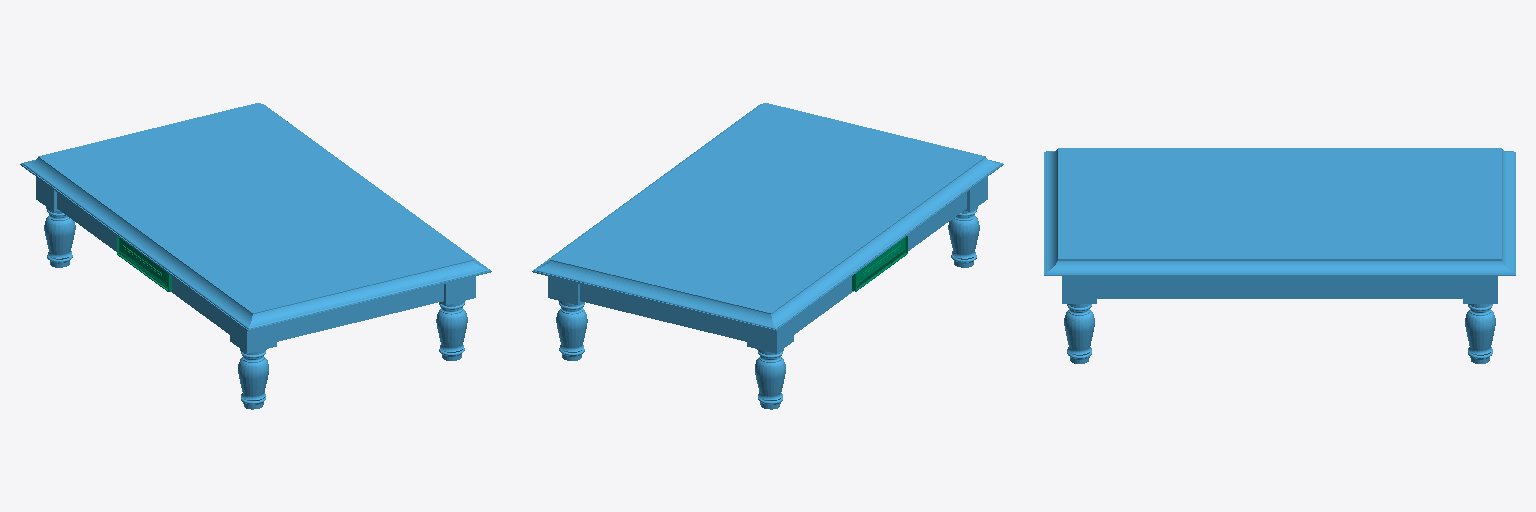
The robot description file, URDF, robot "partnet_2dc57230d14506eacd6ce29440b718cf":
<?xml version="1.0" ?>
<robot name="partnet_2dc57230d14506eacd6ce29440b718cf">
	<link name="base"/>
	<link name="link_0">
		<visual name="board-35">
			<origin xyz="0 0 0"/>
			<geometry>
				<mesh filename="package://objects_description/20985/textured_objs/original-28.obj"/>
			</geometry>
		</visual>
		<visual name="leg-11">
			<origin xyz="0 0 0"/>
			<geometry>
				<mesh filename="package://objects_description/20985/textured_objs/original-7.obj"/>
			</geometry>
		</visual>
		<visual name="leg-11">
			<origin xyz="0 0 0"/>
			<geometry>
				<mesh filename="package://objects_description/20985/textured_objs/original-6.obj"/>
			</geometry>
		</visual>
		<visual name="leg-12">
			<origin xyz="0 0 0"/>
			<geometry>
				<mesh filename="package://objects_description/20985/textured_objs/original-16.obj"/>
			</geometry>
		</visual>
		<visual name="leg-12">
			<origin xyz="0 0 0"/>
			<geometry>
				<mesh filename="package://objects_description/20985/textured_objs/original-15.obj"/>
			</geometry>
		</visual>
		<visual name="leg-13">
			<origin xyz="0 0 0"/>
			<geometry>
				<mesh filename="package://objects_description/20985/textured_objs/original-13.obj"/>
			</geometry>
		</visual>
		<visual name="leg-13">
			<origin xyz="0 0 0"/>
			<geometry>
				<mesh filename="package://objects_description/20985/textured_objs/original-12.obj"/>
			</geometry>
		</visual>
		<visual name="leg-14">
			<origin xyz="0 0 0"/>
			<geometry>
				<mesh filename="package://objects_description/20985/textured_objs/original-9.obj"/>
			</geometry>
		</visual>
		<visual name="leg-14">
			<origin xyz="0 0 0"/>
			<geometry>
				<mesh filename="package://objects_description/20985/textured_objs/original-10.obj"/>
			</geometry>
		</visual>
		<visual name="bar_stretcher-15">
			<origin xyz="0 0 0"/>
			<geometry>
				<mesh filename="package://objects_description/20985/textured_objs/original-21.obj"/>
			</geometry>
		</visual>
		<visual name="bar_stretcher-16">
			<origin xyz="0 0 0"/>
			<geometry>
				<mesh filename="package://objects_description/20985/textured_objs/original-22.obj"/>
			</geometry>
		</visual>
		<visual name="bar_stretcher-17">
			<origin xyz="0 0 0"/>
			<geometry>
				<mesh filename="package://objects_description/20985/textured_objs/original-19.obj"/>
			</geometry>
		</visual>
		<visual name="bar_stretcher-18">
			<origin xyz="0 0 0"/>
			<geometry>
				<mesh filename="package://objects_description/20985/textured_objs/original-20.obj"/>
			</geometry>
		</visual>
		<visual name="tabletop_connector-19">
			<origin xyz="0 0 0"/>
			<geometry>
				<mesh filename="package://objects_description/20985/textured_objs/new-0.obj"/>
			</geometry>
		</visual>
		<visual name="tabletop_connector-20">
			<origin xyz="0 0 0"/>
			<geometry>
				<mesh filename="package://objects_description/20985/textured_objs/new-1.obj"/>
			</geometry>
		</visual>
		<visual name="tabletop_connector-21">
			<origin xyz="0 0 0"/>
			<geometry>
				<mesh filename="package://objects_description/20985/textured_objs/new-2.obj"/>
			</geometry>
		</visual>
		<visual name="tabletop_connector-22">
			<origin xyz="0 0 0"/>
			<geometry>
				<mesh filename="package://objects_description/20985/textured_objs/new-3.obj"/>
			</geometry>
		</visual>
		<visual name="drawer_rails-28">
			<origin xyz="0 0 0"/>
			<geometry>
				<mesh filename="package://objects_description/20985/textured_objs/original-3.obj"/>
			</geometry>
		</visual>
		<visual name="drawer_rails-28">
			<origin xyz="0 0 0"/>
			<geometry>
				<mesh filename="package://objects_description/20985/textured_objs/original-2.obj"/>
			</geometry>
		</visual>
		<collision>
			<origin xyz="0 0 0"/>
			<geometry>
				<mesh filename="package://objects_description/20985/textured_objs/original-28.obj"/>
			</geometry>
		</collision>
		<collision>
			<origin xyz="0 0 0"/>
			<geometry>
				<mesh filename="package://objects_description/20985/textured_objs/original-7.obj"/>
			</geometry>
		</collision>
		<collision>
			<origin xyz="0 0 0"/>
			<geometry>
				<mesh filename="package://objects_description/20985/textured_objs/original-6.obj"/>
			</geometry>
		</collision>
		<collision>
			<origin xyz="0 0 0"/>
			<geometry>
				<mesh filename="package://objects_description/20985/textured_objs/original-16.obj"/>
			</geometry>
		</collision>
		<collision>
			<origin xyz="0 0 0"/>
			<geometry>
				<mesh filename="package://objects_description/20985/textured_objs/original-15.obj"/>
			</geometry>
		</collision>
		<collision>
			<origin xyz="0 0 0"/>
			<geometry>
				<mesh filename="package://objects_description/20985/textured_objs/original-13.obj"/>
			</geometry>
		</collision>
		<collision>
			<origin xyz="0 0 0"/>
			<geometry>
				<mesh filename="package://objects_description/20985/textured_objs/original-12.obj"/>
			</geometry>
		</collision>
		<collision>
			<origin xyz="0 0 0"/>
			<geometry>
				<mesh filename="package://objects_description/20985/textured_objs/original-9.obj"/>
			</geometry>
		</collision>
		<collision>
			<origin xyz="0 0 0"/>
			<geometry>
				<mesh filename="package://objects_description/20985/textured_objs/original-10.obj"/>
			</geometry>
		</collision>
		<collision>
			<origin xyz="0 0 0"/>
			<geometry>
				<mesh filename="package://objects_description/20985/textured_objs/original-21.obj"/>
			</geometry>
		</collision>
		<collision>
			<origin xyz="0 0 0"/>
			<geometry>
				<mesh filename="package://objects_description/20985/textured_objs/original-22.obj"/>
			</geometry>
		</collision>
		<collision>
			<origin xyz="0 0 0"/>
			<geometry>
				<mesh filename="package://objects_description/20985/textured_objs/original-19.obj"/>
			</geometry>
		</collision>
		<collision>
			<origin xyz="0 0 0"/>
			<geometry>
				<mesh filename="package://objects_description/20985/textured_objs/original-20.obj"/>
			</geometry>
		</collision>
		<collision>
			<origin xyz="0 0 0"/>
			<geometry>
				<mesh filename="package://objects_description/20985/textured_objs/new-0.obj"/>
			</geometry>
		</collision>
		<collision>
			<origin xyz="0 0 0"/>
			<geometry>
				<mesh filename="package://objects_description/20985/textured_objs/new-1.obj"/>
			</geometry>
		</collision>
		<collision>
			<origin xyz="0 0 0"/>
			<geometry>
				<mesh filename="package://objects_description/20985/textured_objs/new-2.obj"/>
			</geometry>
		</collision>
		<collision>
			<origin xyz="0 0 0"/>
			<geometry>
				<mesh filename="package://objects_description/20985/textured_objs/new-3.obj"/>
			</geometry>
		</collision>
		<collision>
			<origin xyz="0 0 0"/>
			<geometry>
				<mesh filename="package://objects_description/20985/textured_objs/original-3.obj"/>
			</geometry>
		</collision>
		<collision>
			<origin xyz="0 0 0"/>
			<geometry>
				<mesh filename="package://objects_description/20985/textured_objs/original-2.obj"/>
			</geometry>
		</collision>
	</link>
	<joint name="joint_0" type="fixed">
		<origin rpy="1.570796326794897 0 -1.570796326794897" xyz="0 0 0"/>
		<child link="link_0"/>
		<parent link="base"/>
	</joint>
	<link name="link_1">
		<visual name="handle-27">
			<origin xyz="0 0 0"/>
			<geometry>
				<mesh filename="package://objects_description/20985/textured_objs/new-4.obj"/>
			</geometry>
		</visual>
		<visual name="drawer_front-29">
			<origin xyz="0 0 0"/>
			<geometry>
				<mesh filename="package://objects_description/20985/textured_objs/new-5.obj"/>
			</geometry>
		</visual>
		<visual name="drawer_side-30">
			<origin xyz="0 0 0"/>
			<geometry>
				<mesh filename="package://objects_description/20985/textured_objs/new-9.obj"/>
			</geometry>
		</visual>
		<visual name="drawer_side-31">
			<origin xyz="0 0 0"/>
			<geometry>
				<mesh filename="package://objects_description/20985/textured_objs/new-7.obj"/>
			</geometry>
		</visual>
		<visual name="drawer_back-32">
			<origin xyz="0 0 0"/>
			<geometry>
				<mesh filename="package://objects_description/20985/textured_objs/new-8.obj"/>
			</geometry>
		</visual>
		<visual name="drawer_bottom-33">
			<origin xyz="0 0 0"/>
			<geometry>
				<mesh filename="package://objects_description/20985/textured_objs/new-6.obj"/>
			</geometry>
		</visual>
		<visual name="drawer_side-36">
			<origin xyz="0 0 0"/>
			<geometry>
				<mesh filename="package://objects_description/20985/textured_objs/new-11.obj"/>
			</geometry>
		</visual>
		<visual name="drawer_side-36">
			<origin xyz="0 0 0"/>
			<geometry>
				<mesh filename="package://objects_description/20985/textured_objs/new-10.obj"/>
			</geometry>
		</visual>
		<collision>
			<origin xyz="0 0 0"/>
			<geometry>
				<mesh filename="package://objects_description/20985/textured_objs/new-4.obj"/>
			</geometry>
		</collision>
		<collision>
			<origin xyz="0 0 0"/>
			<geometry>
				<mesh filename="package://objects_description/20985/textured_objs/new-5.obj"/>
			</geometry>
		</collision>
		<collision>
			<origin xyz="0 0 0"/>
			<geometry>
				<mesh filename="package://objects_description/20985/textured_objs/new-9.obj"/>
			</geometry>
		</collision>
		<collision>
			<origin xyz="0 0 0"/>
			<geometry>
				<mesh filename="package://objects_description/20985/textured_objs/new-7.obj"/>
			</geometry>
		</collision>
		<collision>
			<origin xyz="0 0 0"/>
			<geometry>
				<mesh filename="package://objects_description/20985/textured_objs/new-8.obj"/>
			</geometry>
		</collision>
		<collision>
			<origin xyz="0 0 0"/>
			<geometry>
				<mesh filename="package://objects_description/20985/textured_objs/new-6.obj"/>
			</geometry>
		</collision>
		<collision>
			<origin xyz="0 0 0"/>
			<geometry>
				<mesh filename="package://objects_description/20985/textured_objs/new-11.obj"/>
			</geometry>
		</collision>
		<collision>
			<origin xyz="0 0 0"/>
			<geometry>
				<mesh filename="package://objects_description/20985/textured_objs/new-10.obj"/>
			</geometry>
		</collision>
	</link>
	<joint name="joint_1" type="prismatic">
		<origin xyz="0 0 0"/>
		<axis xyz="0 0 1"/>
		<child link="link_1"/>
		<parent link="link_0"/>
		<limit lower="0" upper="0.43199999999999994"/>
	</joint>
</robot>

--- Render facts (derived) ---
Views: 3 orthographic renders of the robot side by side, from view 1: azimuth 30°, elevation 25°; view 2: azimuth 150°, elevation 25°; view 3: azimuth 270°, elevation 25°.
Robot: partnet_2dc57230d14506eacd6ce29440b718cf — 3 links, 2 joints (1 prismatic, 1 fixed); root link base; default pose: every joint at zero.
Visible links, largest first — view 1: link_0, link_1; view 2: link_0, link_1; view 3: link_0.
Link boxes in pixels (x1,y1,x2,y2): link_0: [20, 103, 491, 409]; link_1: [117, 236, 171, 291]; link_0: [532, 103, 1003, 409]; link_1: [852, 236, 907, 291]; link_0: [1044, 148, 1515, 363].
Bounding box of the posed robot: 1.11 × 1.8 × 0.4467 m (x, y, z).
Meshes: 27 distinct files referenced, 27 mesh visuals loaded (27 OBJ).
